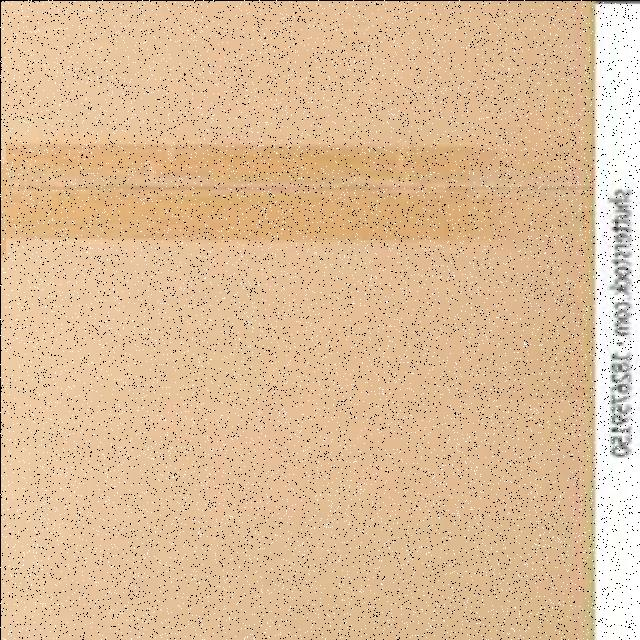normal: (5, 1, 589, 398)
